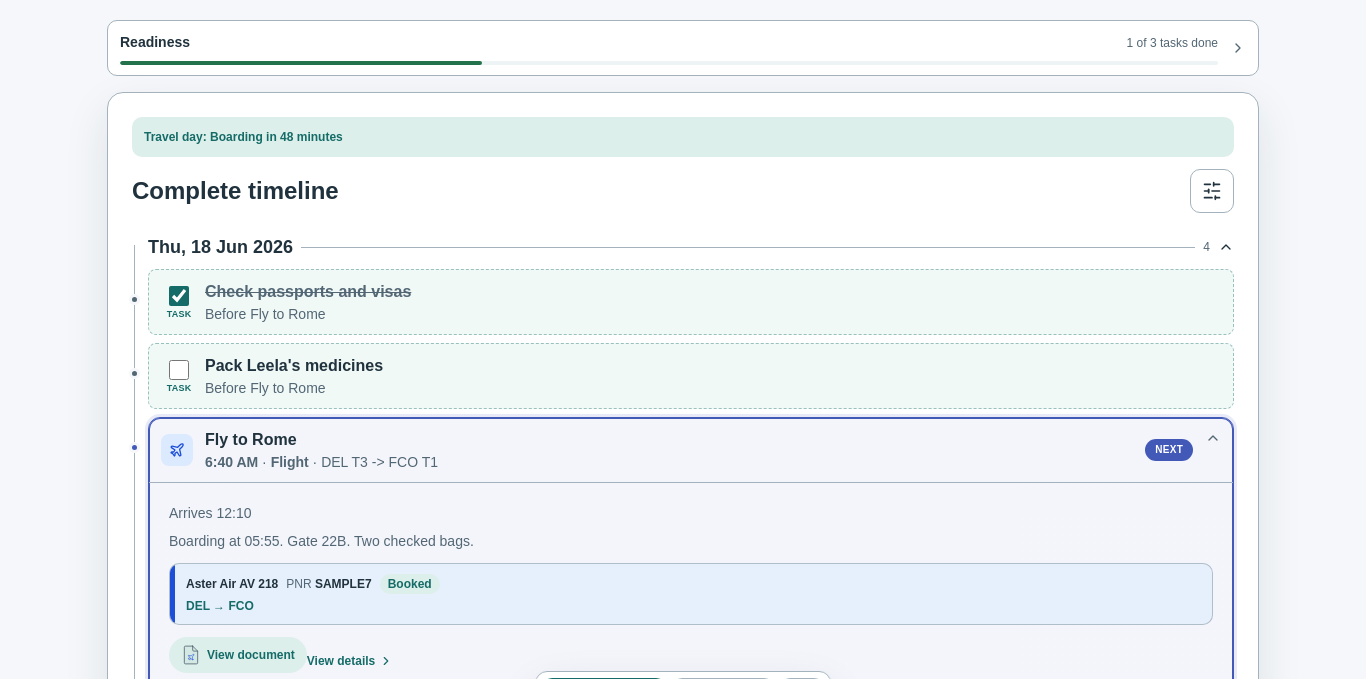
Test: current demo readiness › updates the demo readiness total when a task is checked
The width and height of the screenshot is (1366, 679).
(page scrolled)
expect the text "1 of 3 tasks done" is shown: met, box [1127,33,1218,53]
Click the checkbox named "Mark as done: Pack Leela's medicines" at (179, 370), box [169,360,189,380]
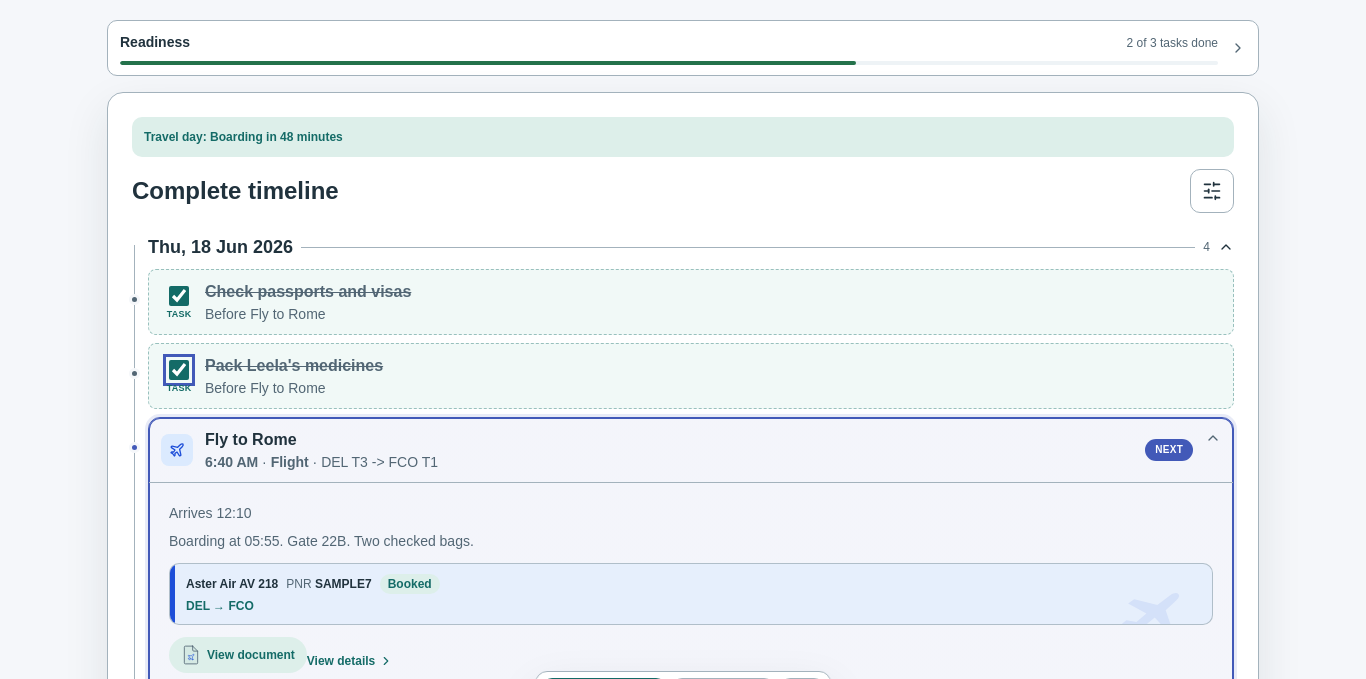
expect the text "2 of 3 tasks done" is shown: met, box [1127,33,1218,53]
